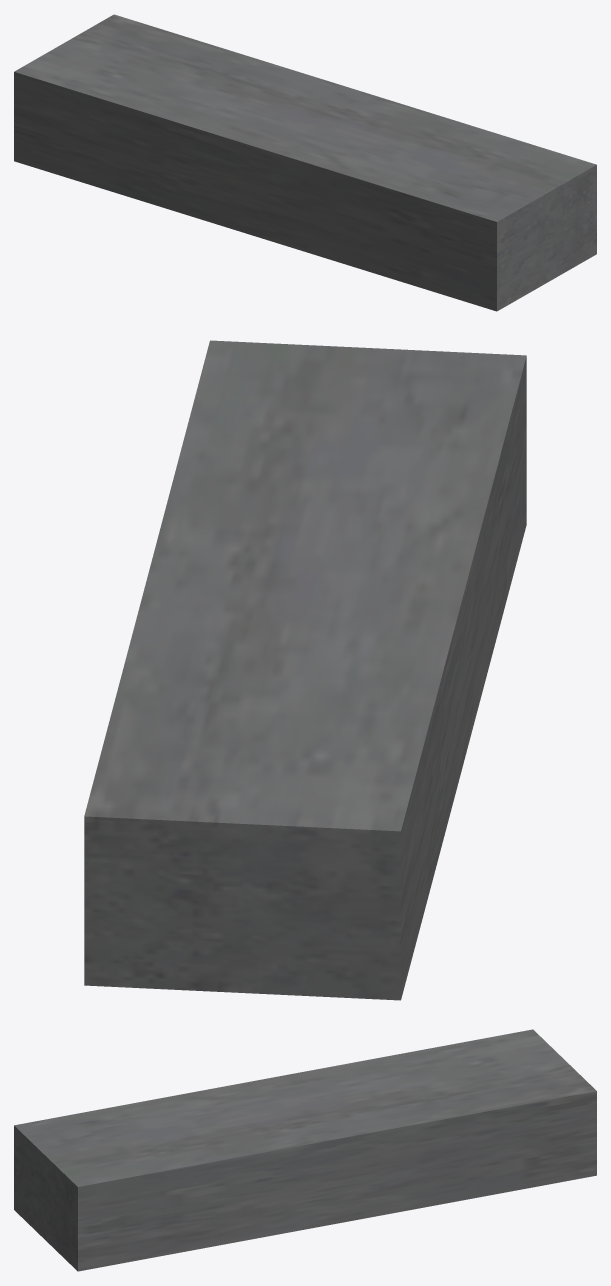
The model's file is GH_1_Stairs_4.gltf.
3 renders of one model, top to bottom at view 1: azimuth 30°, elevation 25°; view 2: azimuth 150°, elevation 25°; view 3: azimuth 270°, elevation 25°, orthographic. The views are drawn at different scales.
Parts seen in each view (by area): view 1: GH_1_Stairs_4; view 2: GH_1_Stairs_4; view 3: GH_1_Stairs_4.
Boxes of the visible parts, box(x1,y1,x2,y2) form: GH_1_Stairs_4: box(14, 14, 596, 311); GH_1_Stairs_4: box(84, 340, 526, 1000); GH_1_Stairs_4: box(14, 1029, 596, 1271).
Bounding box in the file's own units: 2.86 × 0.7156 × 4.47.
Materials: 1 (1 with a texture image).
